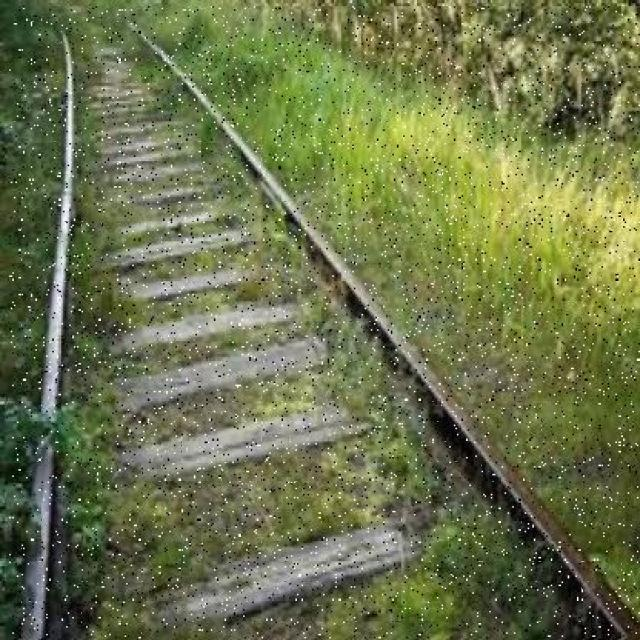rail: (9, 7, 640, 638)
